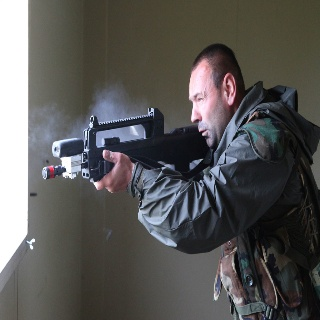rifle: (40, 102, 211, 187)
